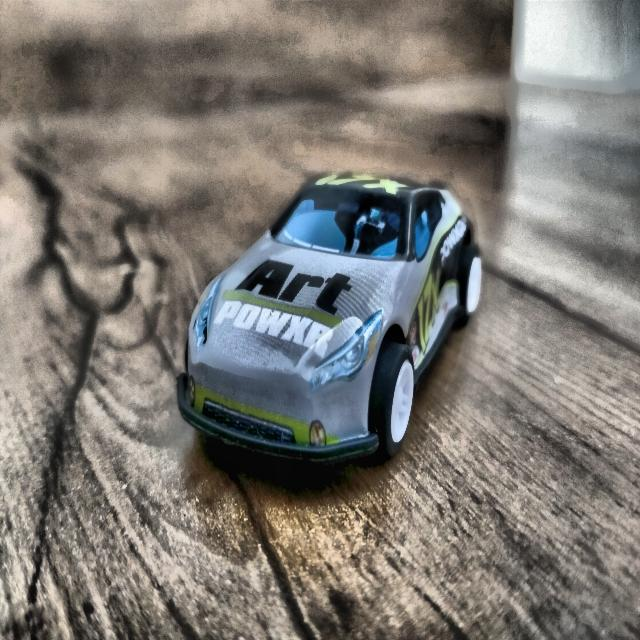Car: (174, 173, 483, 464)
